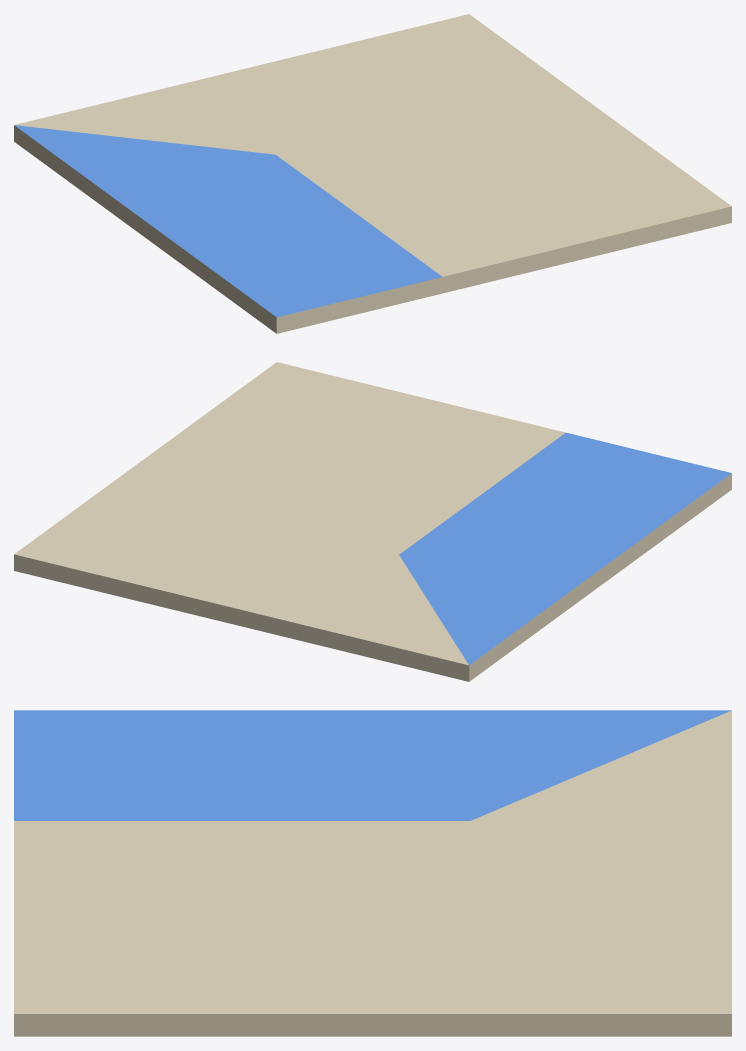
The model's file is meridian_advanced_defences_foundation.glb.
3 renders of one model, top to bottom at view 1: azimuth 30°, elevation 25°; view 2: azimuth 150°, elevation 25°; view 3: azimuth 270°, elevation 25°, orthographic. The views are drawn at different scales.
Parts seen in each view (by area): view 1: hull; view 2: hull; view 3: hull.
Part boxes in pixels (x1=…): hull: x1=14, y1=14, x2=731, y2=333; hull: x1=14, y1=362, x2=731, y2=681; hull: x1=14, y1=710, x2=731, y2=1036.
Size of the model in its own units: 7.2 by 0.25 by 7.2.
